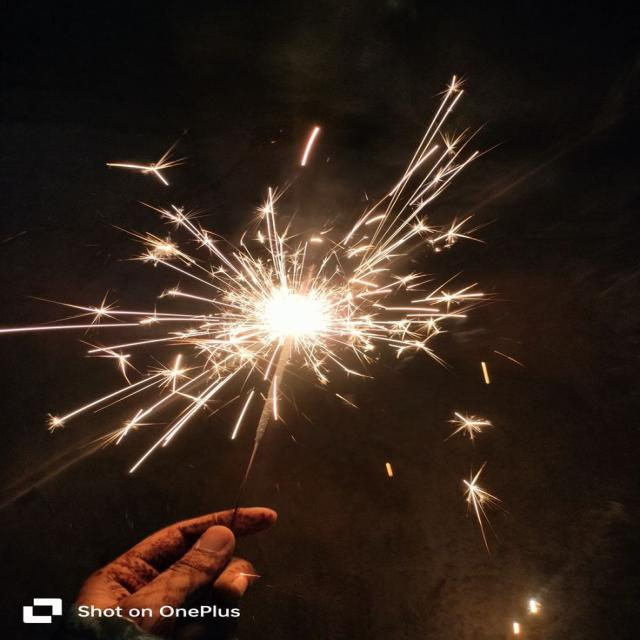fire: (254, 286, 334, 345)
